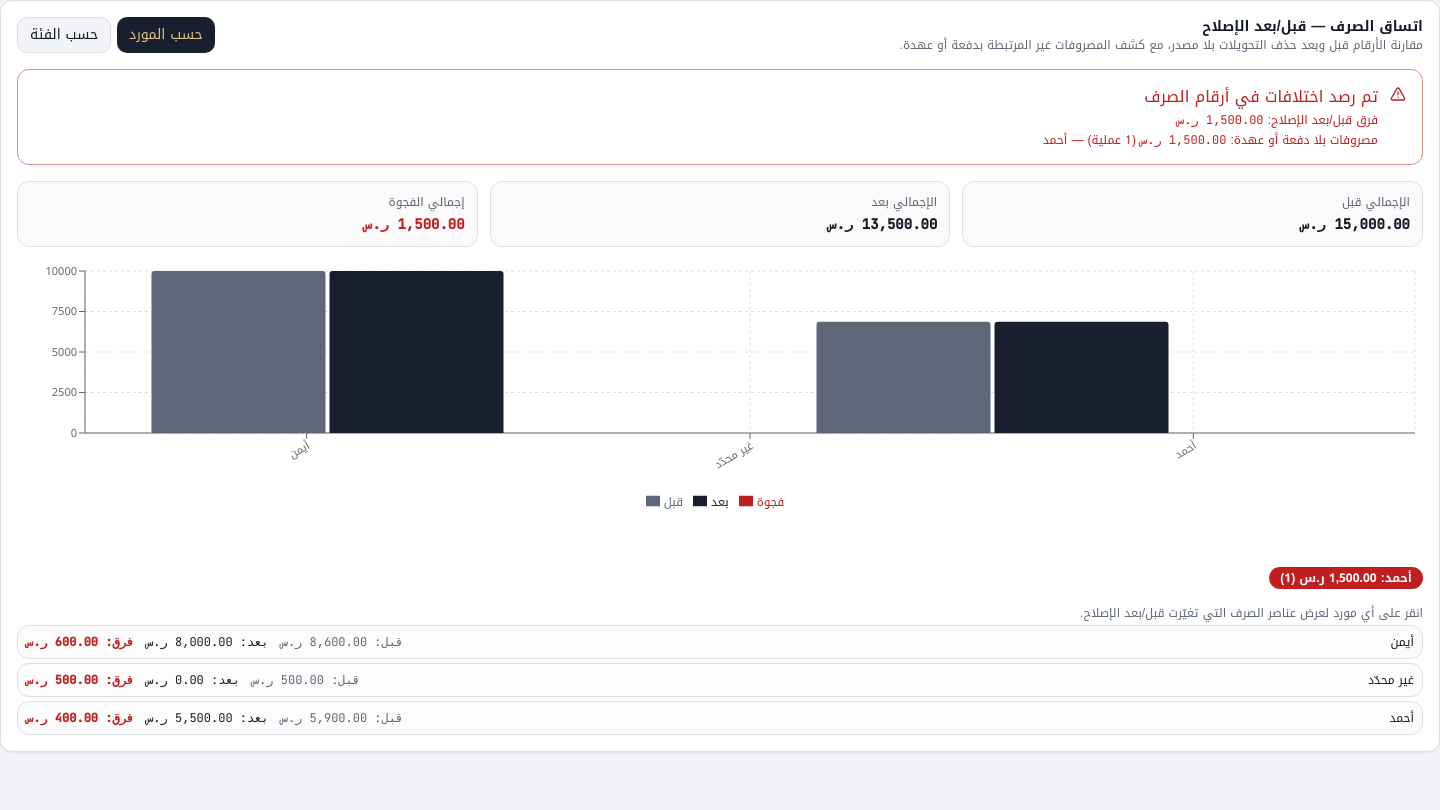
with repairs and an unlinked expense › opens a group to show which lines the repair changed
The image size is (1440, 810).
Check: the text "1,500.00 ر.س" below "إجمالي الفجوة" is shown, box [364,215,465,233]
Click the button "أيمن". click: coordinates (385, 642)
box: [17,625,1423,659]
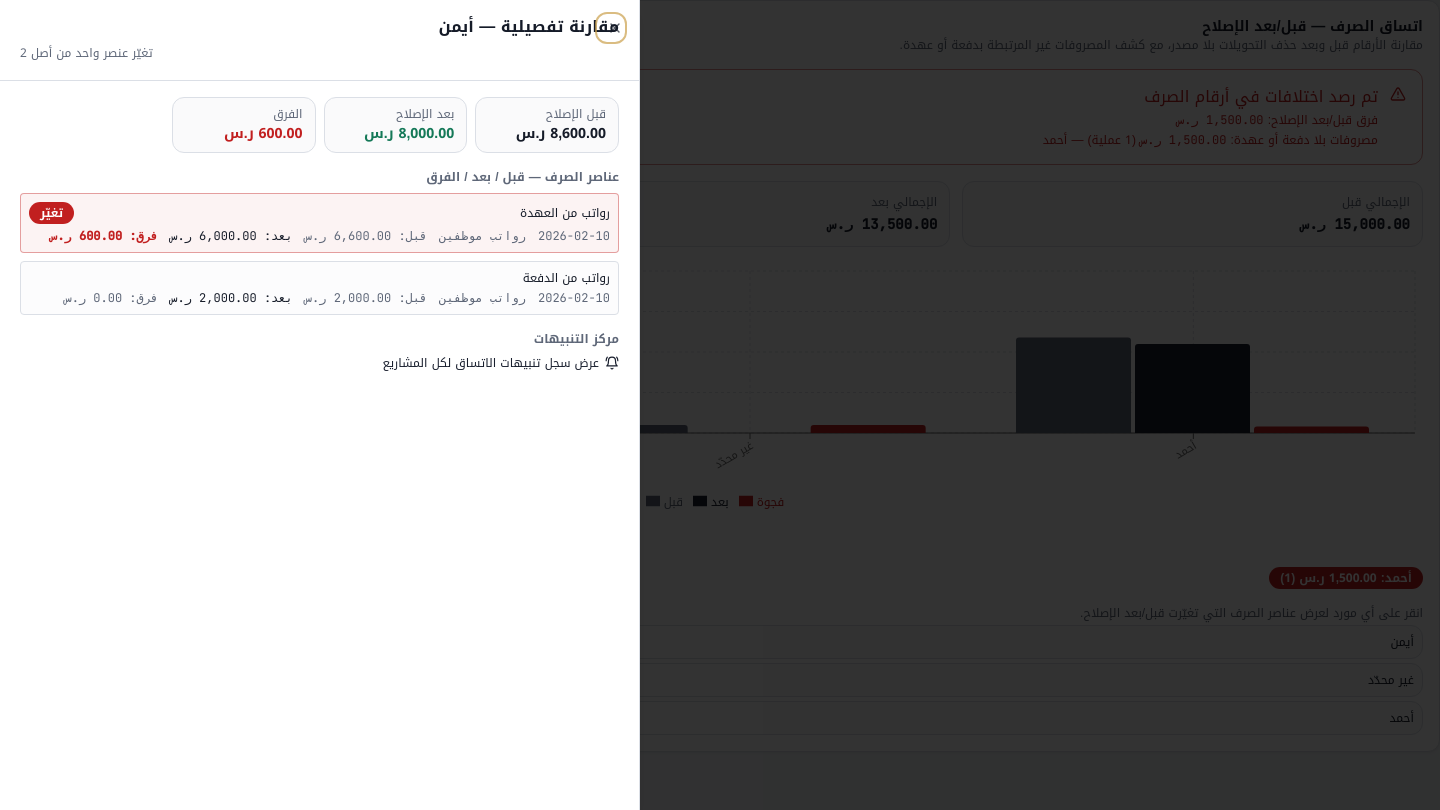
Check: the heading "مقارنة تفصيلية — أيمن" is shown, box [439,16,619,38]
Check: the text "تغيّر عنصر واحد من أصل 2" is shown, box [20,42,153,64]
Check: the text "8,600.00 ر.س" is shown, box [516,120,606,146]
